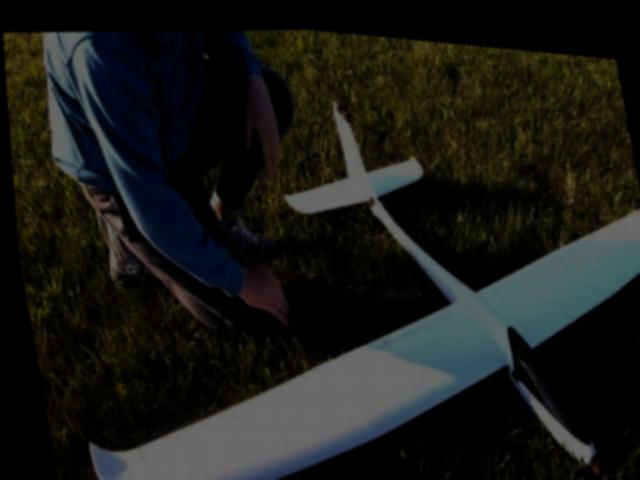iha: (21, 42, 640, 480)
